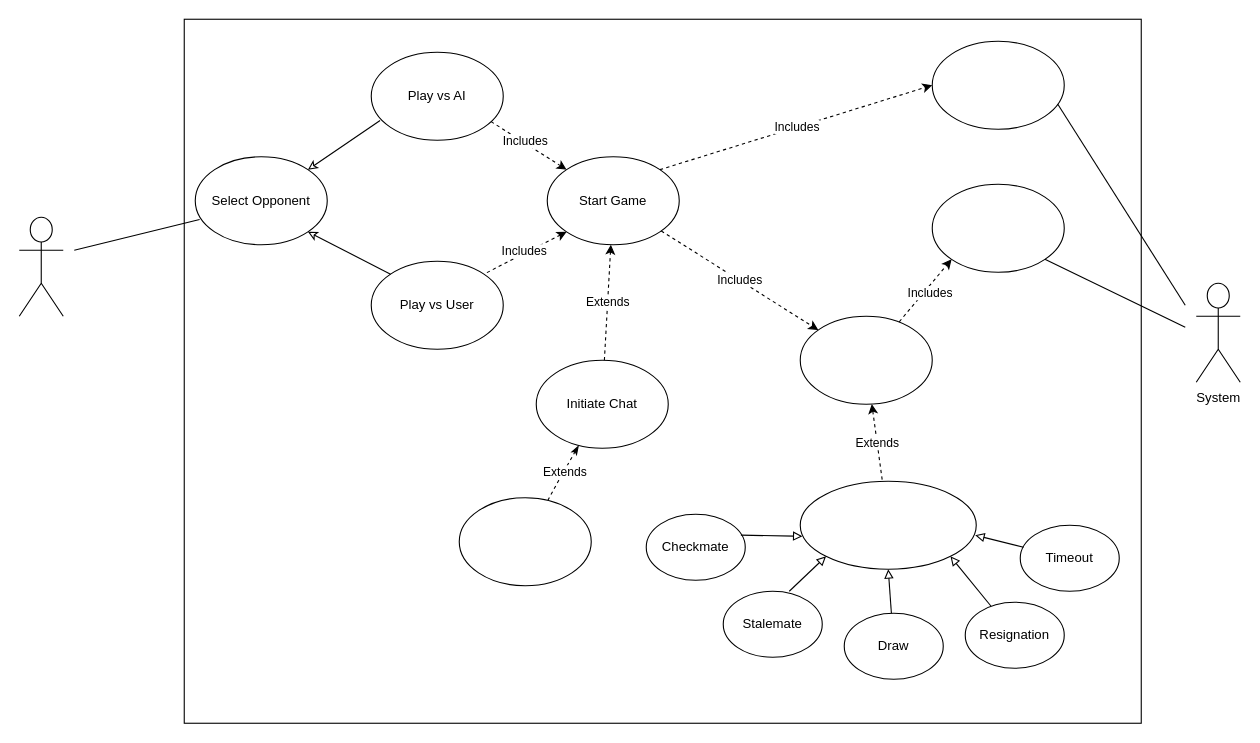
The diagram is 1260 pixels wide and 743 high, and some of its shapes have lost their labels. The shapes that lost their labels are listed below. From the top down, each one's centre as x and y in pixels, then its label:
At (x=997, y=84): "Start timers".
At (x=997, y=227): "Check Legal Move".
At (x=40, y=266): "User".
At (x=865, y=359): "Make Move".
At (x=524, y=541): "End Chat".
At (x=887, y=524): "Terminate Game".
